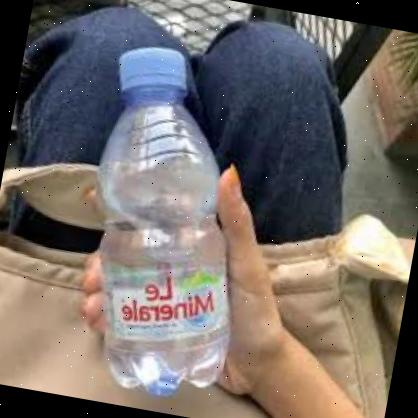bottle: (54, 23, 275, 418)
cap: (110, 38, 196, 103)
label: (100, 246, 230, 354)
